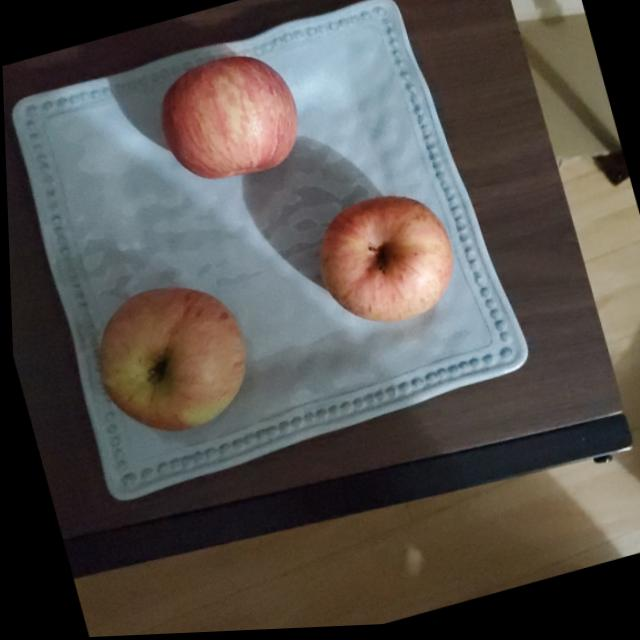apple: (79, 271, 257, 449), (307, 181, 466, 338), (151, 44, 311, 195)
